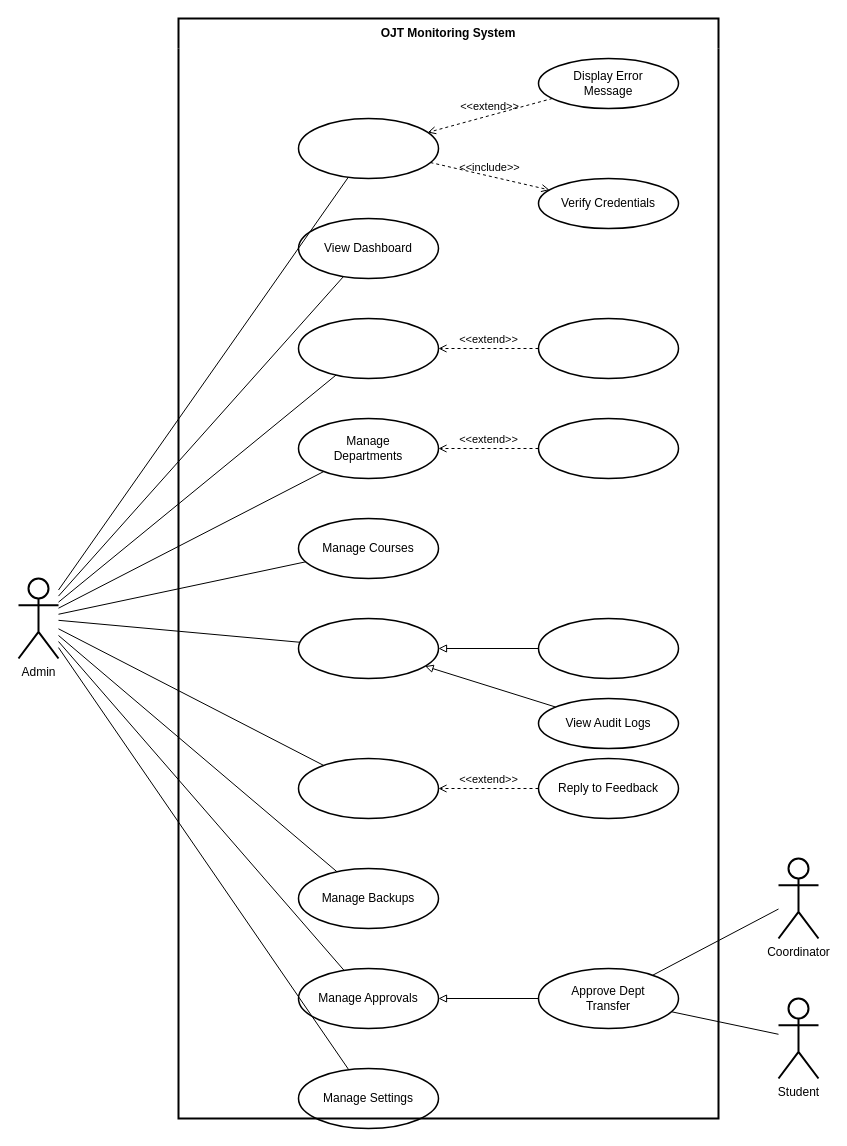
Some shapes in this 847 by 1146 pixel diagram are drawn without their labels. The shapes that lost their labels are listed below. From the top down, each one's centre as x and y in pixels, then its label:
the point at 368,148: Login
the point at 368,348: Manage Users & Roles
the point at 608,348: Deactivate User
the point at 608,448: Assign Head
the point at 368,648: Monitor System
the point at 608,648: View System Health
the point at 368,788: Review Feedback
